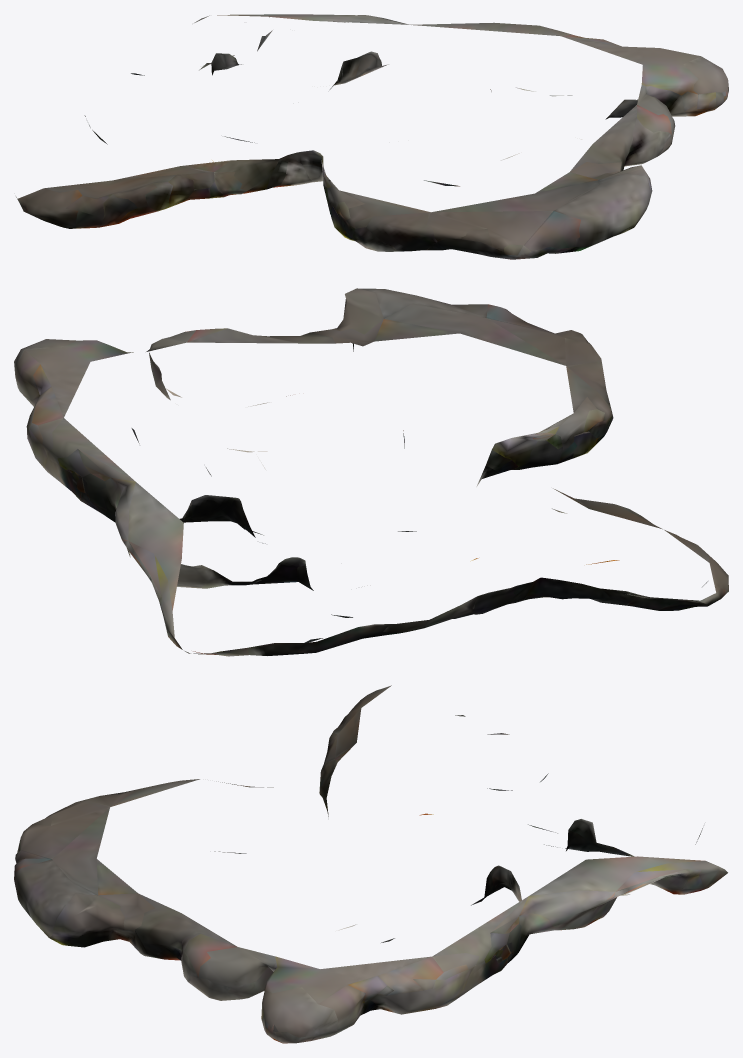
File: hall.glb
The picture shows the model from 3 angles, top to bottom: view 1: azimuth 30°, elevation 25°; view 2: azimuth 150°, elevation 25°; view 3: azimuth 270°, elevation 25°; orthographic projection. The views are drawn at different scales.
Size of the model in its own units: 0.9317 by 0.0803 by 0.8259.
Materials: 1 (1 with a texture image).
